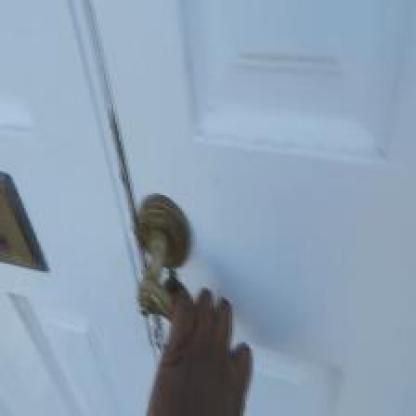other: (128, 195, 186, 307)
